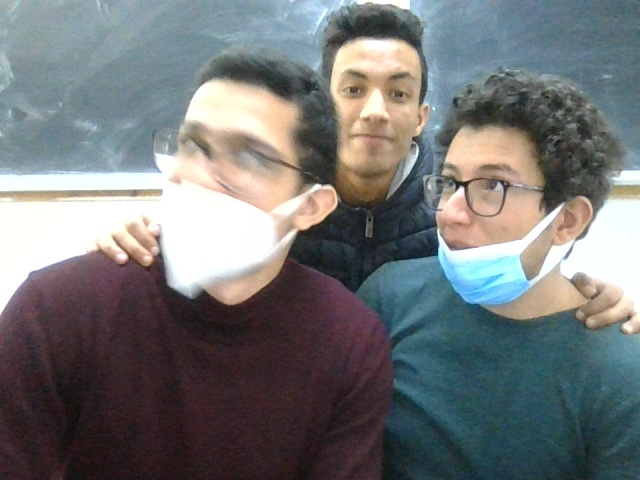mask_weared_incorrect: (424, 66, 603, 307)
without_mask: (322, 2, 429, 192)
